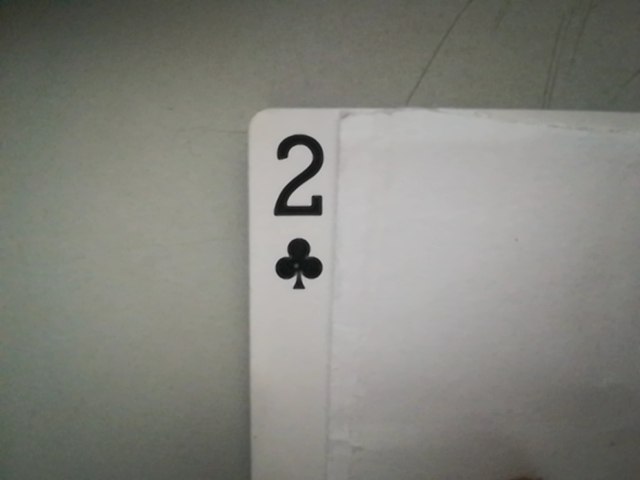mh 2: (258, 123, 341, 294)
